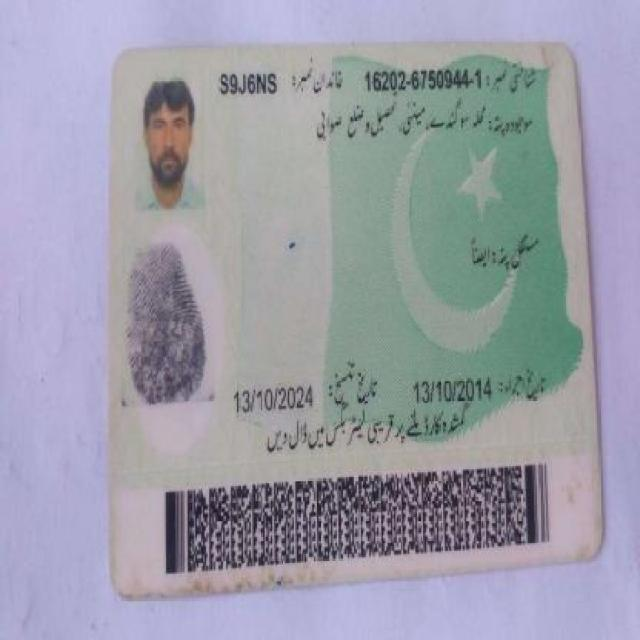Back: (105, 38, 604, 577)
